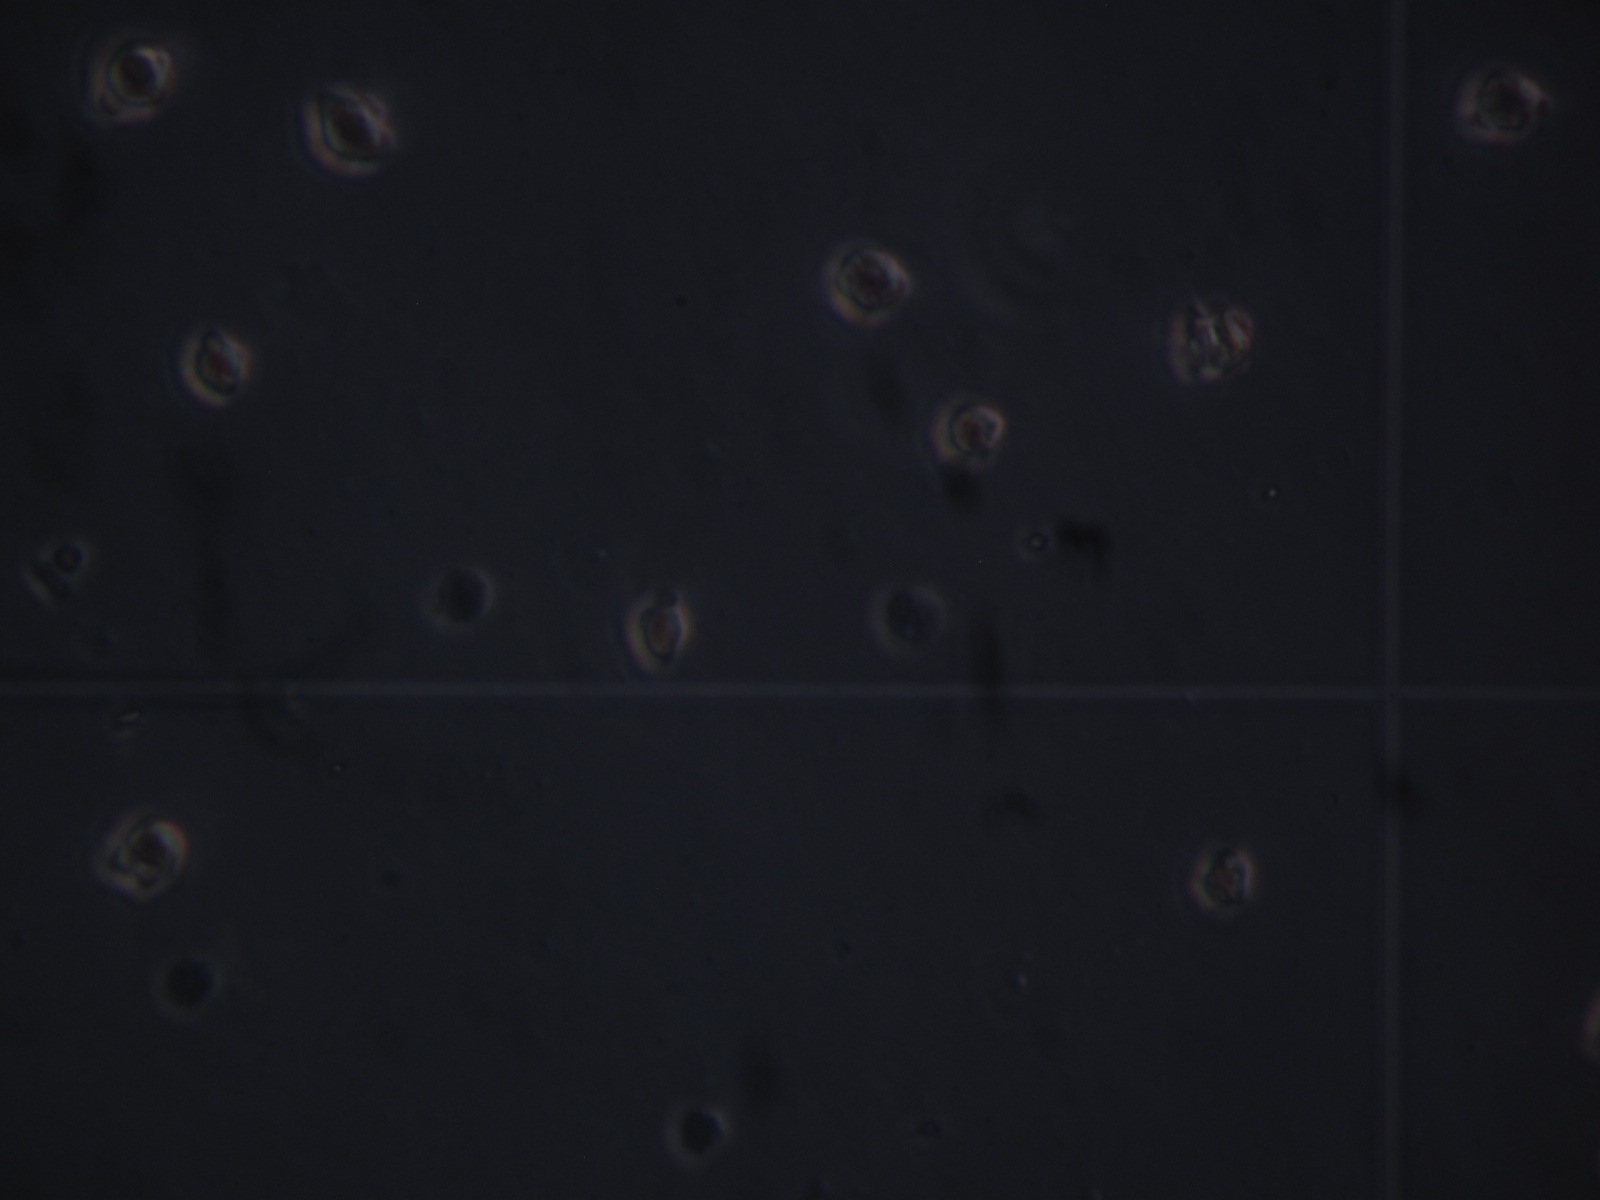hemo: (304, 81, 393, 176), (98, 808, 188, 900), (825, 236, 911, 323), (1458, 71, 1545, 147), (97, 38, 173, 117), (150, 947, 223, 1021), (626, 591, 690, 674), (935, 389, 1007, 461), (186, 333, 253, 408), (425, 562, 496, 632), (876, 581, 945, 650), (1192, 847, 1254, 913), (668, 1105, 731, 1166), (43, 538, 89, 579)
